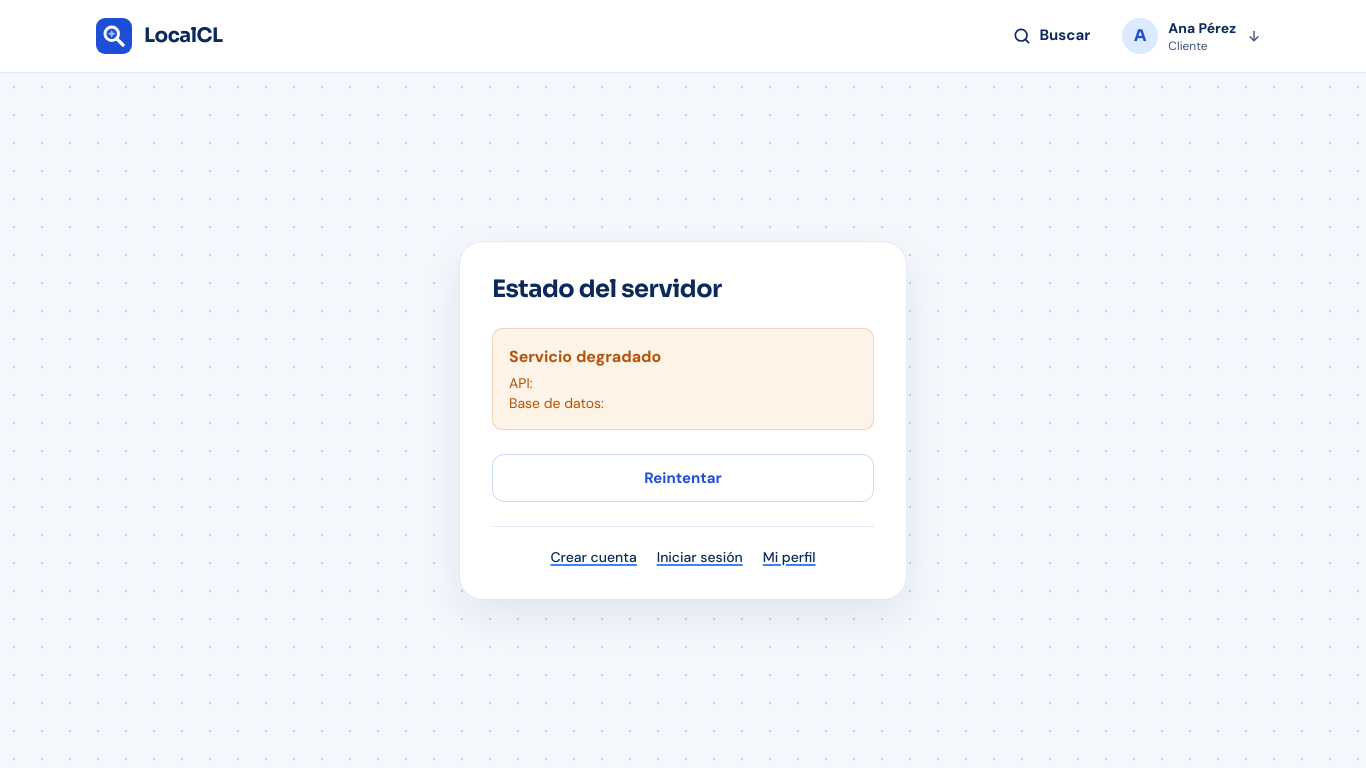
Test case: Encabezado › el menú se cierra con Escape y devuelve el foco al botón
This screenshot has width=1366, height=768.
Click the button "A Ana Pérez Cliente": click(1194, 36) [1118, 14, 1270, 58]
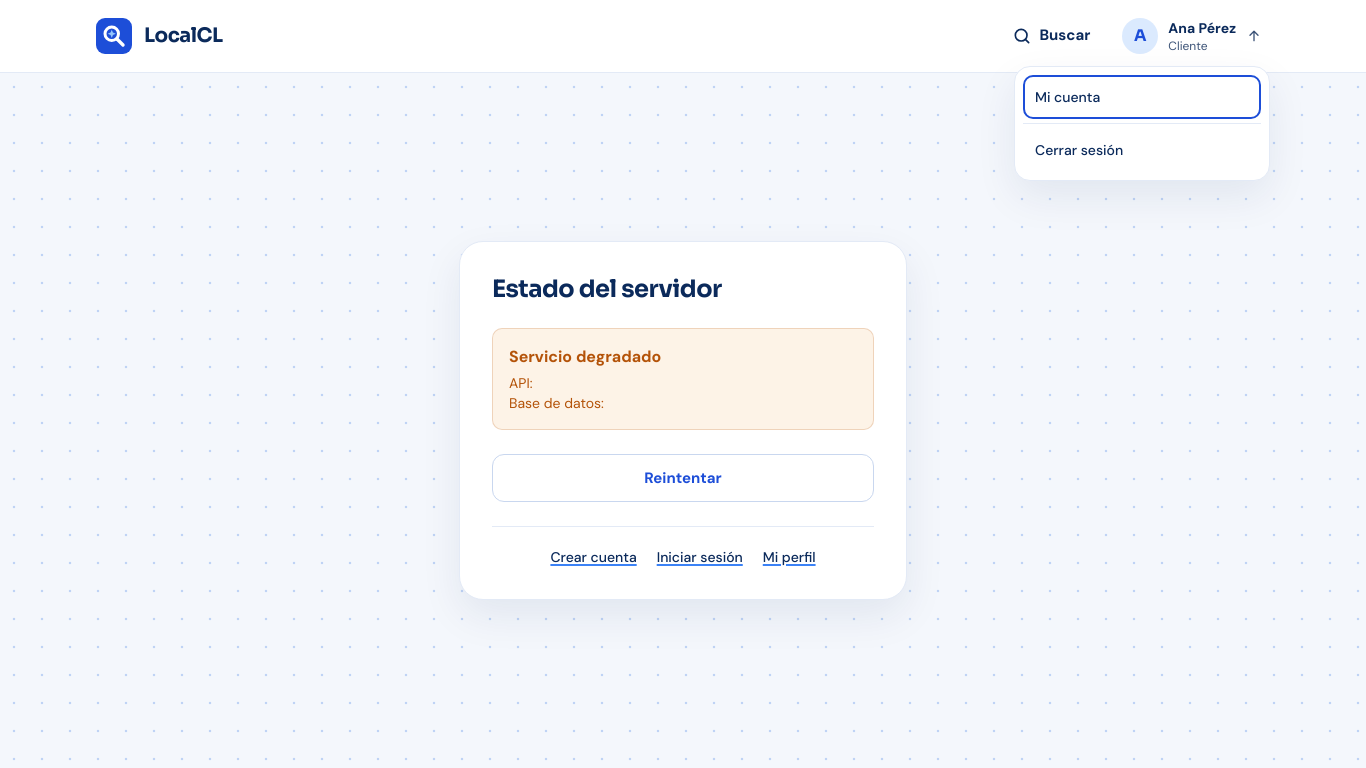
Now the button "A Ana Pérez Cliente" is expanded, box [1118, 14, 1270, 58]
Press Escape
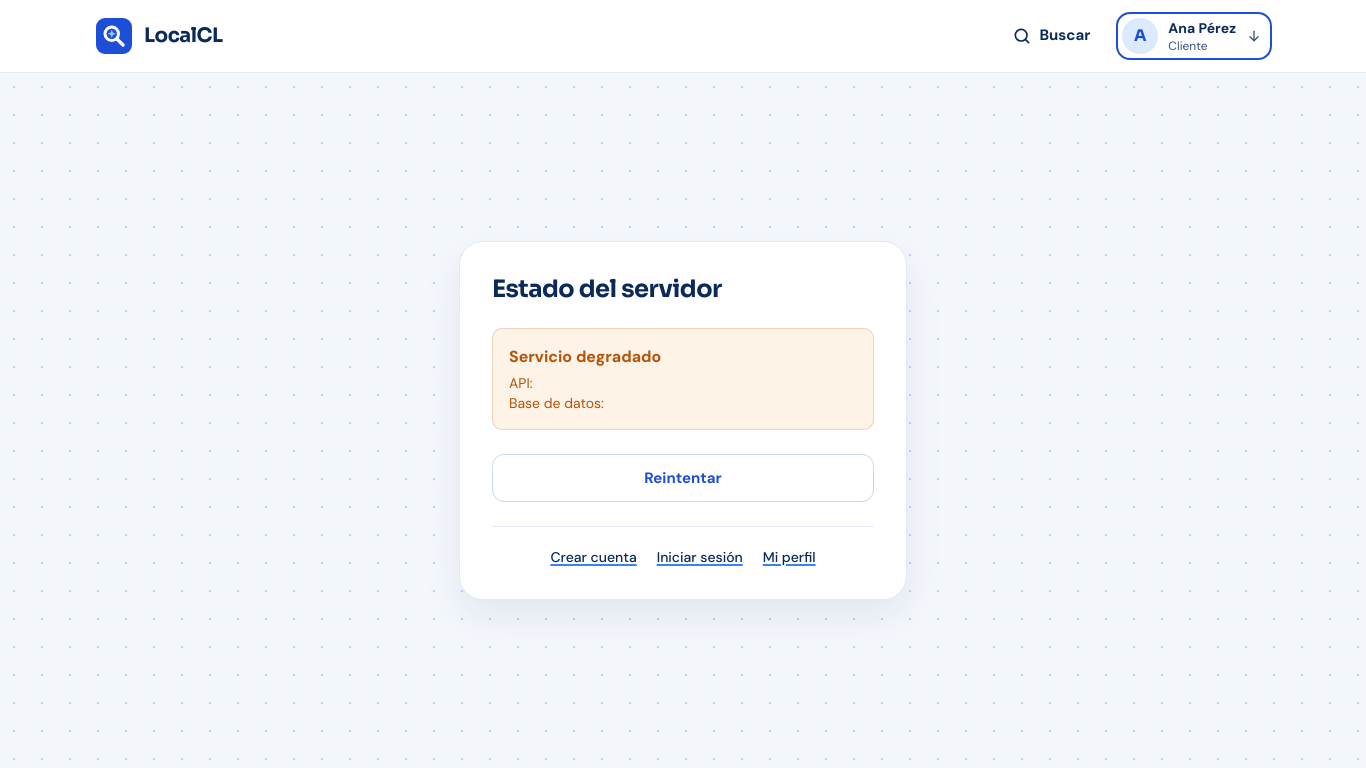
Now the button "A Ana Pérez Cliente" is collapsed, box [1118, 14, 1270, 58]
Now the link "Mi cuenta" is gone
